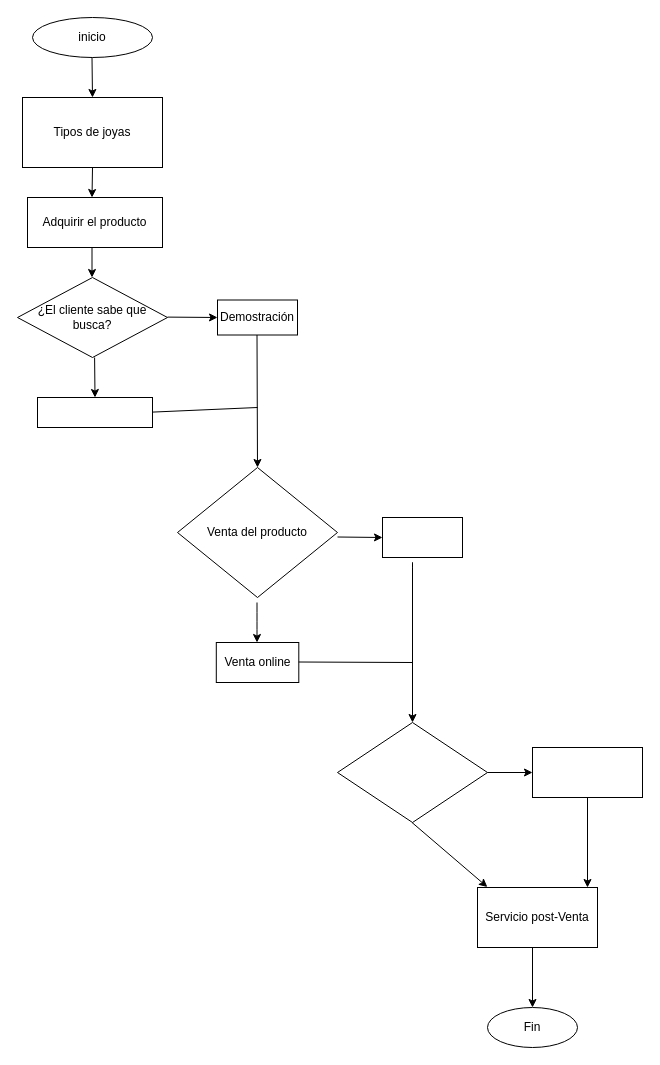
Image size: 660x1065. Some labels were removed from this diagram. Here are the shapes that lost their labels. From the top down, the centre of each, then its label:
point 94,412: Asesoramiento
point 422,537: Tienda fisica
point 412,772: Entrerga correcta
point 587,772: Atender reclamo/Resolver problema
